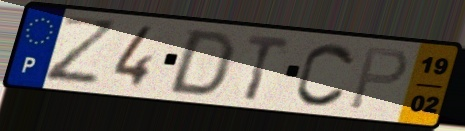4: (110, 25, 157, 90)
C: (293, 40, 359, 110)
D: (164, 28, 239, 99)
P: (346, 45, 412, 112)
T: (243, 32, 293, 104)
Z: (41, 13, 122, 86)
